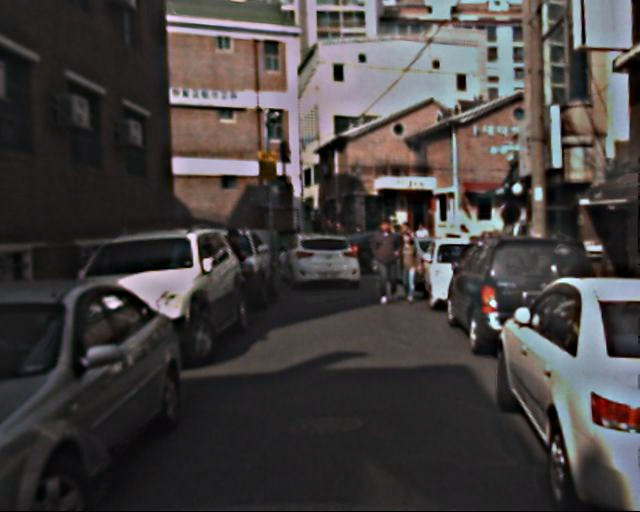person: (369, 221, 403, 305), (392, 224, 426, 306), (217, 231, 251, 313)
